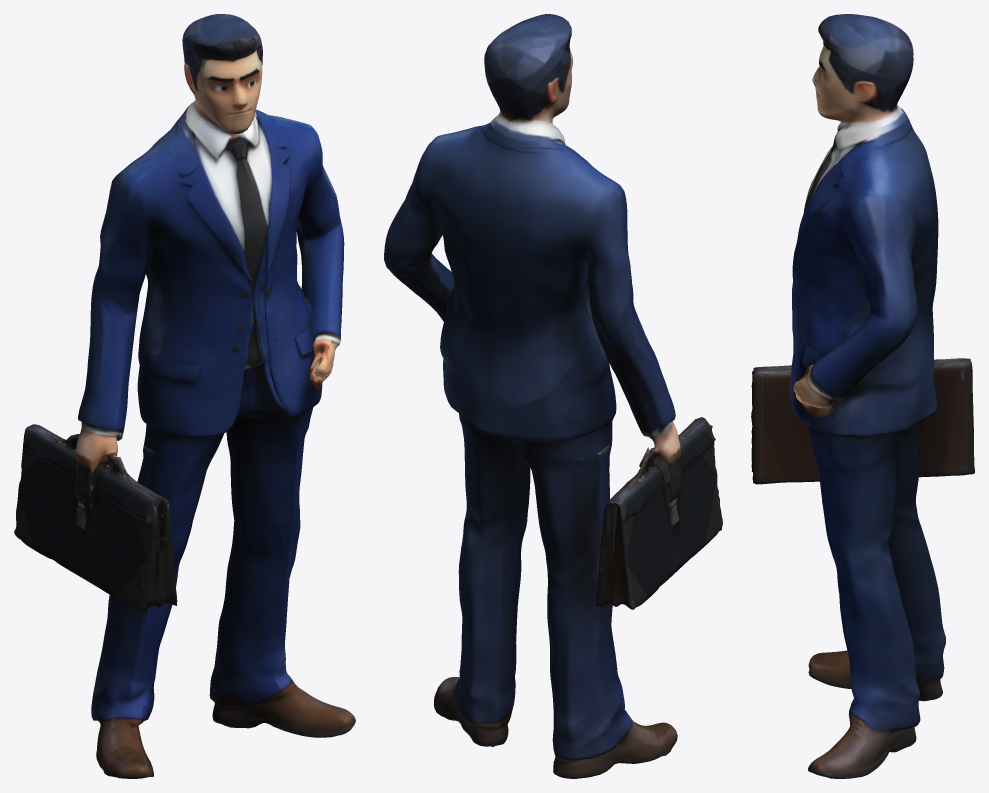
The model's file is bus.glb.
3 views of the same model, side by side, from view 1: azimuth 30°, elevation 25°; view 2: azimuth 150°, elevation 25°; view 3: azimuth 270°, elevation 25° (orthographic).
Visible parts, largest first — view 1: Mesh1_Mesh1.010; view 2: Mesh1_Mesh1.010; view 3: Mesh1_Mesh1.010.
Boxes of the visible parts, bbox=[...] form: Mesh1_Mesh1.010: bbox=[14, 14, 355, 778]; Mesh1_Mesh1.010: bbox=[384, 14, 722, 778]; Mesh1_Mesh1.010: bbox=[751, 14, 974, 778].
Size of the model in its own units: 0.8317 by 2 by 0.5694.
Materials: 1 (1 with a texture image).
